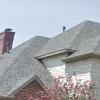Chimney: (1, 22, 19, 58)
